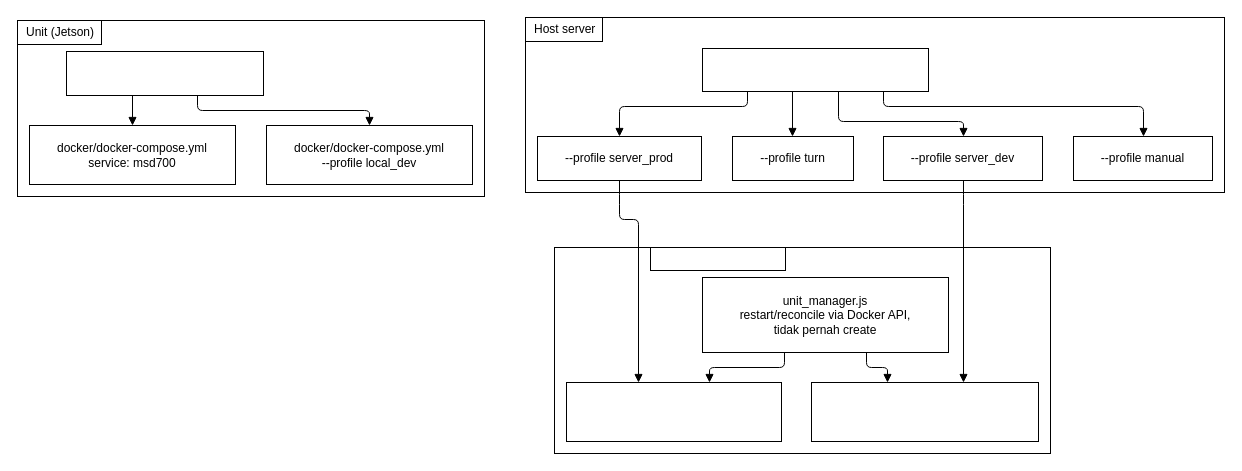
The diagram is 1242 pixels wide and 471 high, and some of its shapes have lost their labels. The centre of each missing label's shape, as x and y in pixels:
"Backend, saat runtime" belongs at point 718,258.
"ros-web-ui/docker-compose.yml" belongs at point 815,70.
"ros_web_ui_v2_unit_relays satu relay bersama, unit prod" belongs at point 674,412.
"ros_web_ui_v2_unit_relays_dev satu relay bersama, unit dev" belongs at point 924,412.
"scripts/docker-manager.sh" belongs at point 165,73.
